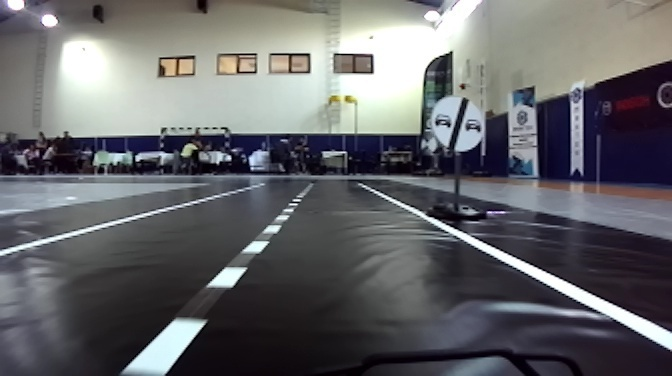sollama_serbest: (431, 96, 484, 151)
